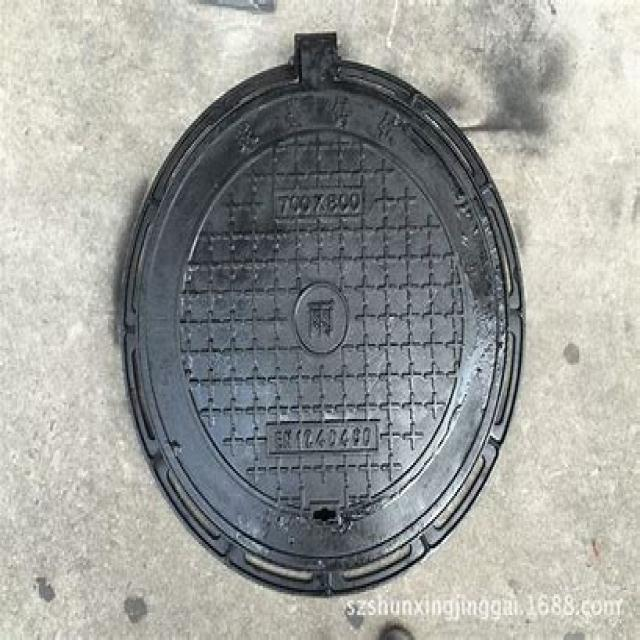manhole: (113, 32, 527, 599)
